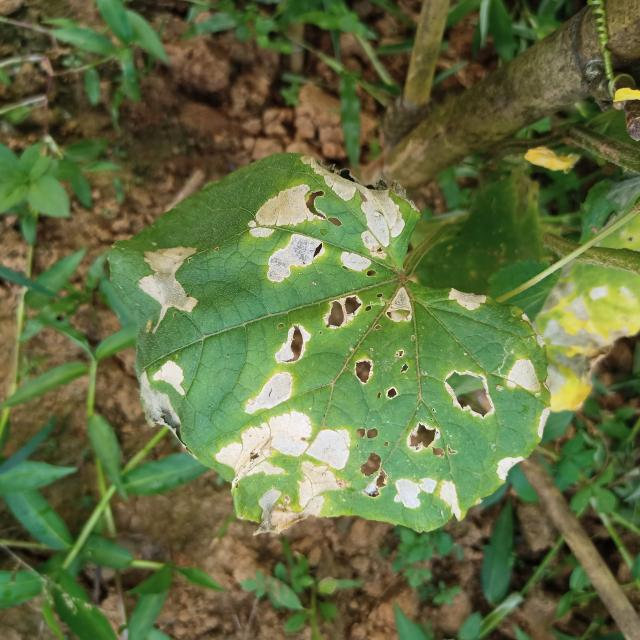disease_cucumber: (116, 151, 511, 534)
